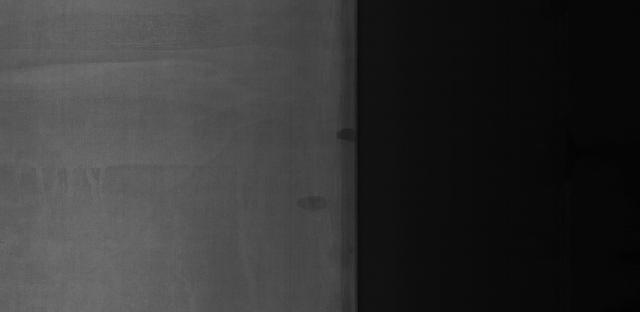oil_spot: (293, 187, 329, 219), (332, 119, 356, 147)
